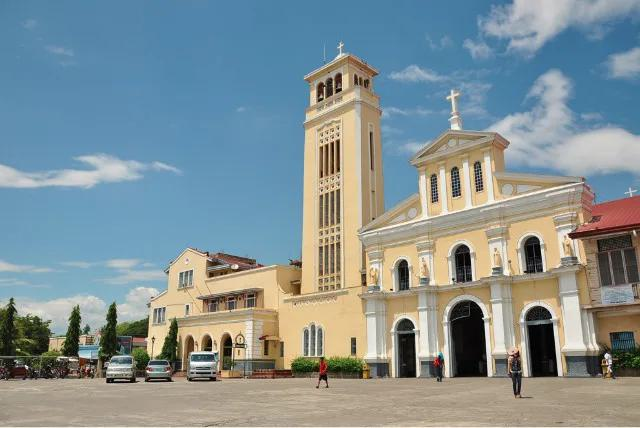manaoag_church_manaoag_pangasinan: (295, 35, 600, 379)
